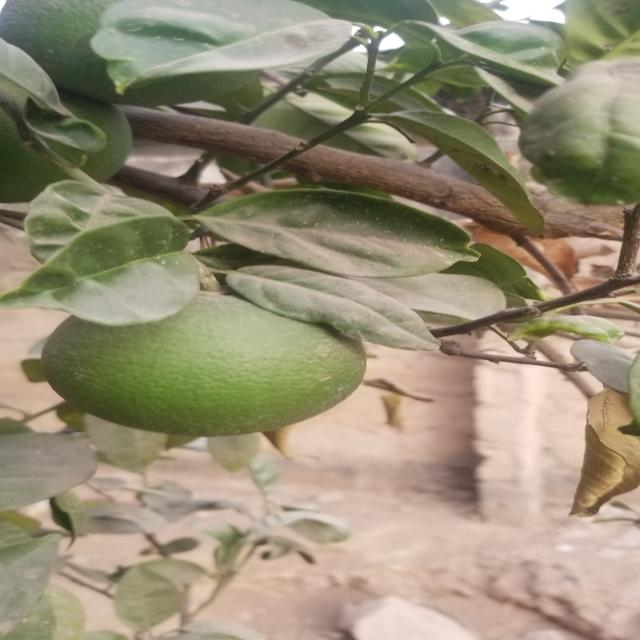Unripe: (42, 292, 369, 437)
